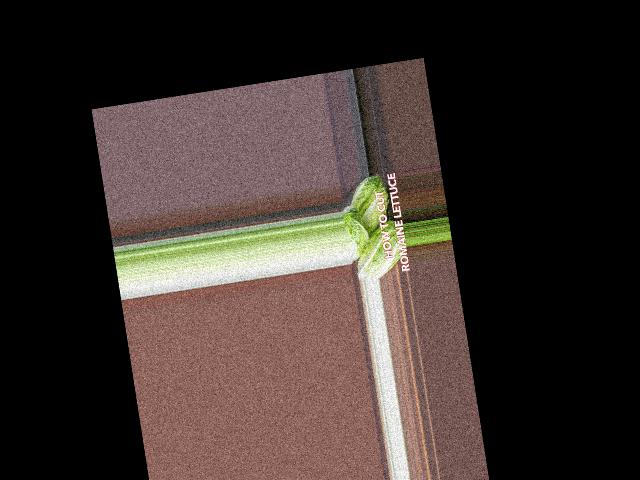lettuce: (342, 170, 399, 242)
